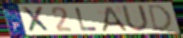2: (51, 6, 74, 33)
A: (101, 5, 129, 33)
D: (146, 3, 174, 33)
L: (73, 7, 99, 32)
U: (120, 4, 151, 33)
X: (20, 6, 53, 33)
